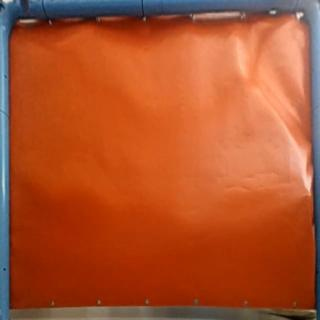Hit-hRxx: (304, 187, 315, 202)
